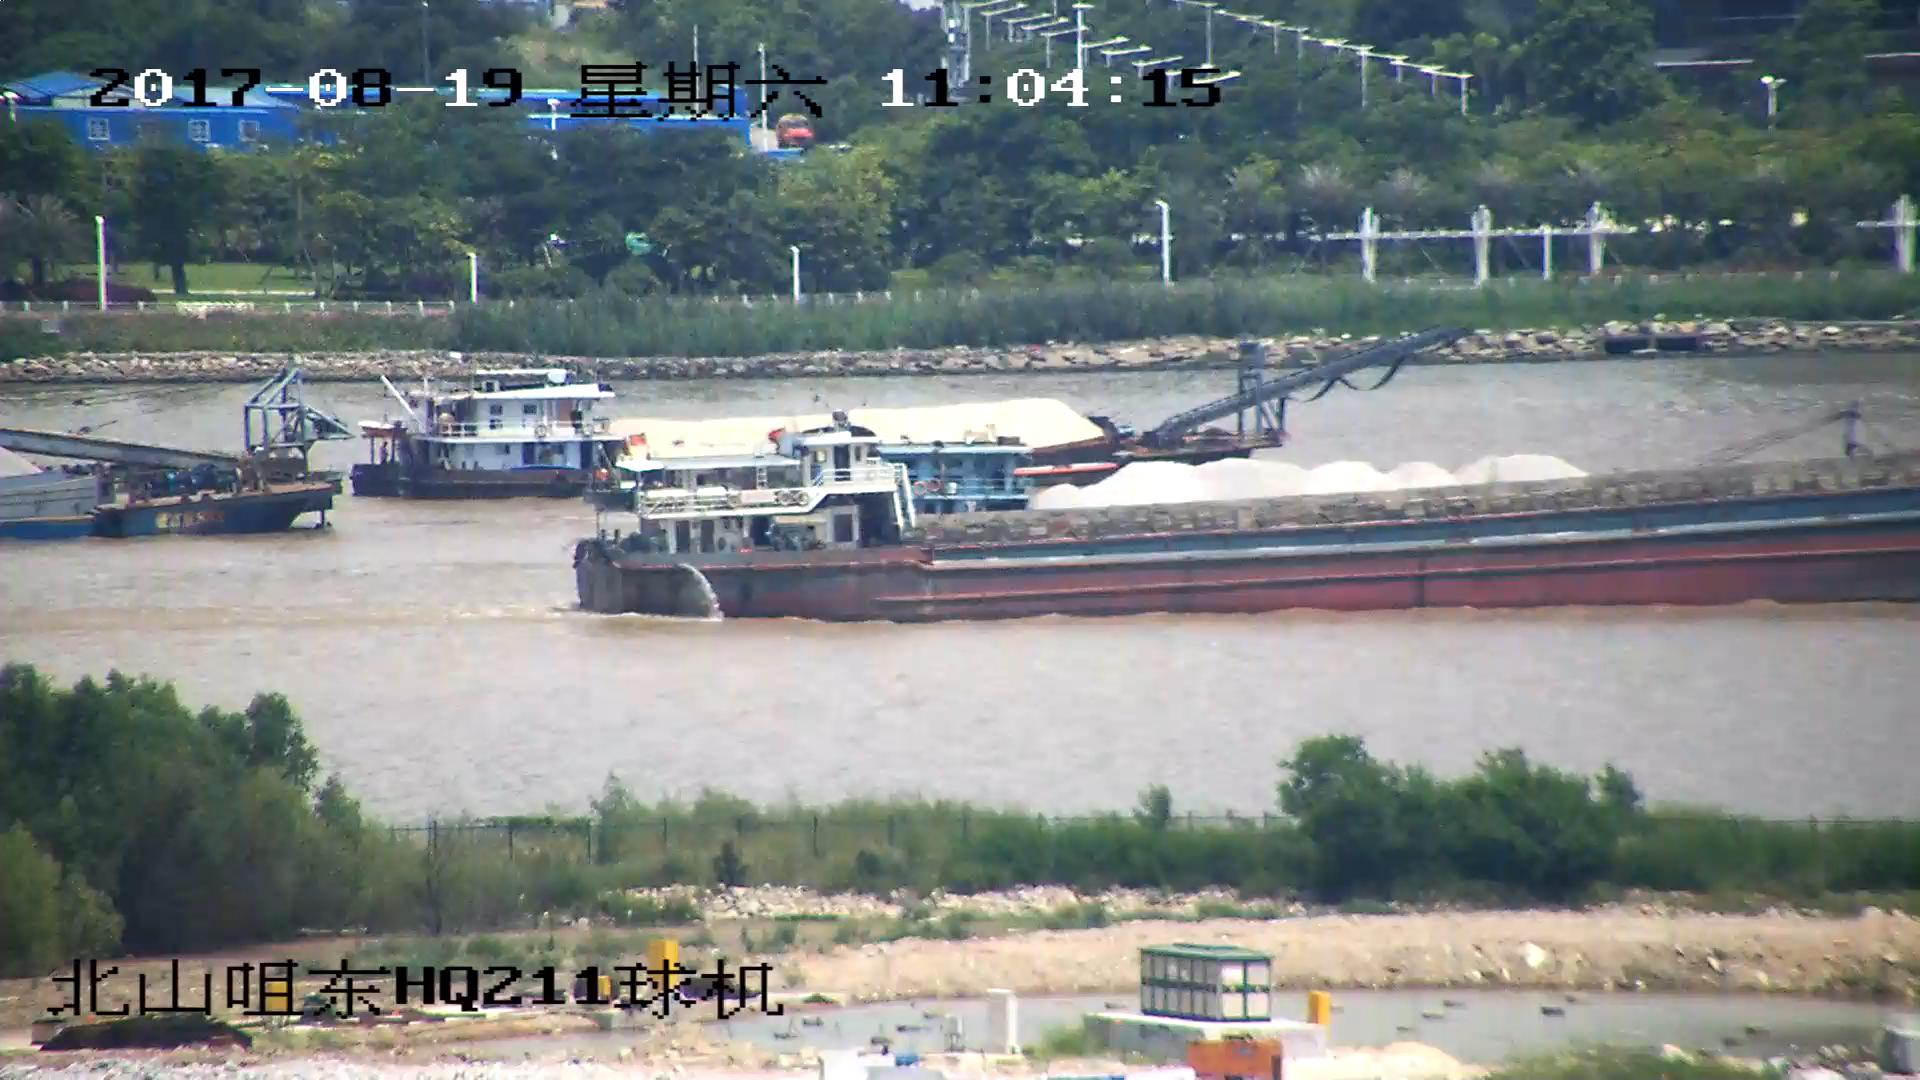bulk cargo carrier: (579, 457, 1919, 614)
ore carrier: (359, 320, 1469, 498), (637, 437, 1613, 528), (1, 359, 349, 541)
